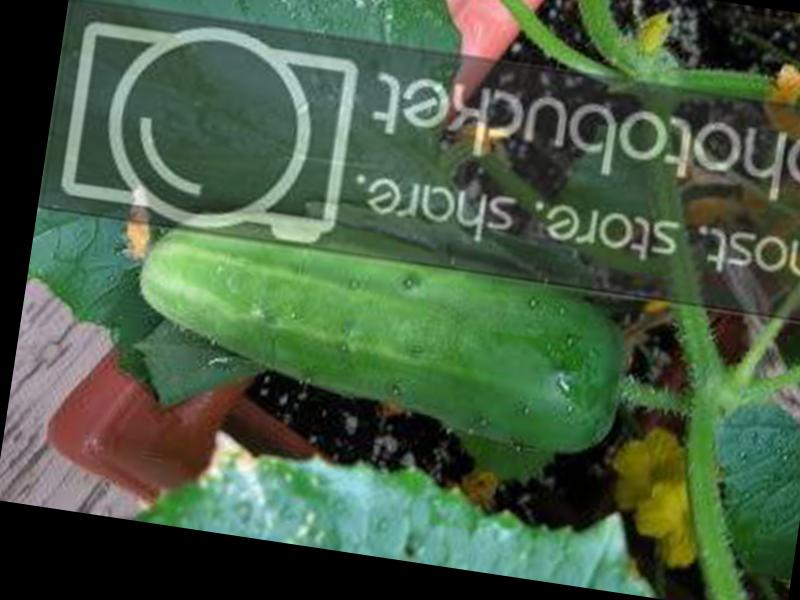Cucumber: (118, 193, 635, 461)
